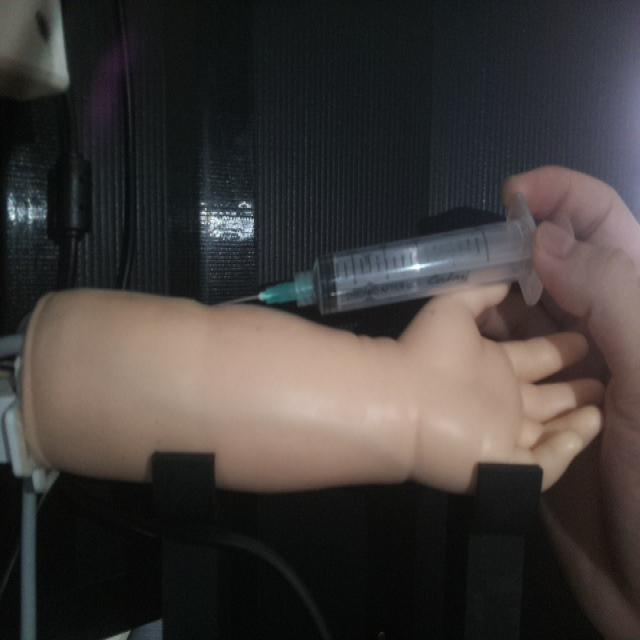Outside: (232, 189, 547, 319)
